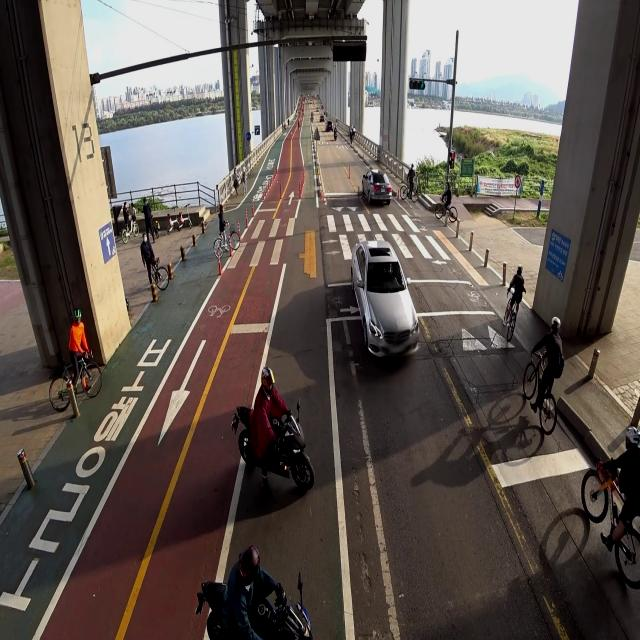Car: (337, 215, 426, 367), (359, 160, 394, 211)
Motorcycle: (176, 536, 322, 640), (232, 364, 316, 494), (333, 124, 340, 142)
